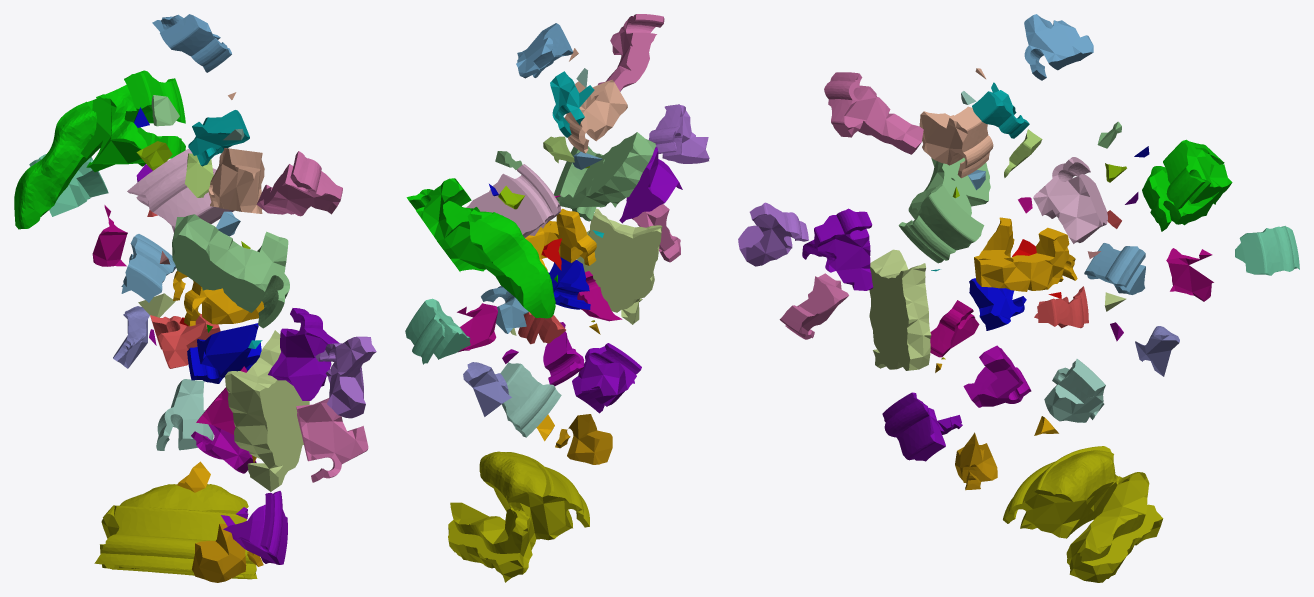
The model's file is fractured_52_48pcs_transformed.glb.
3 renders of one model, left to right at view 1: azimuth 30°, elevation 25°; view 2: azimuth 150°, elevation 25°; view 3: azimuth 270°, elevation 25°, orthographic. The views are drawn at different scales.
Visible parts, largest first — view 1: piece_9.obj, piece_13.obj, piece_3.obj, piece_5.obj, piece_18.obj, piece_7.obj, piece_24.obj, piece_22.obj, piece_27.obj, piece_11.obj, piece_8.obj, piece_20.obj (+17 smaller); view 2: piece_13.obj, piece_9.obj, piece_5.obj, piece_3.obj, piece_7.obj, piece_20.obj, piece_4.obj, piece_25.obj, piece_24.obj, piece_8.obj, piece_27.obj, piece_0.obj (+13 smaller); view 3: piece_13.obj, piece_5.obj, piece_3.obj, piece_9.obj, piece_0.obj, piece_24.obj, piece_7.obj, piece_18.obj, piece_8.obj, piece_20.obj, piece_27.obj, piece_26.obj (+12 smaller).
Part boxes in pixels (box(x1,y1,x2,y2)): piece_9.obj: box(14, 70, 185, 229); piece_13.obj: box(94, 484, 257, 579); piece_3.obj: box(172, 214, 289, 328); piece_5.obj: box(225, 330, 309, 491); piece_18.obj: box(268, 308, 339, 400); piece_7.obj: box(127, 148, 234, 232); piece_24.obj: box(256, 151, 342, 216); piece_22.obj: box(296, 398, 368, 482); piece_27.obj: box(315, 336, 376, 418); piece_11.obj: box(187, 323, 261, 383); piece_8.obj: box(208, 148, 264, 213); piece_20.obj: box(221, 491, 287, 564); piece_13.obj: box(448, 451, 589, 582); piece_9.obj: box(406, 178, 555, 318); piece_5.obj: box(577, 208, 662, 324); piece_3.obj: box(554, 132, 655, 221); piece_7.obj: box(466, 164, 560, 237); piece_20.obj: box(572, 343, 641, 413); piece_4.obj: box(500, 362, 561, 437); piece_25.obj: box(405, 298, 470, 364); piece_24.obj: box(598, 14, 664, 91); piece_8.obj: box(564, 79, 627, 153); piece_27.obj: box(648, 104, 709, 163); piece_0.obj: box(525, 208, 596, 270); piece_13.obj: box(1003, 446, 1163, 582); piece_5.obj: box(869, 249, 931, 370); piece_3.obj: box(898, 157, 990, 263); piece_9.obj: box(1142, 139, 1232, 231); piece_0.obj: box(974, 217, 1077, 291); piece_24.obj: box(824, 72, 923, 154); piece_7.obj: box(1033, 157, 1107, 243); piece_18.obj: box(802, 208, 873, 290); piece_8.obj: box(919, 106, 993, 178); piece_20.obj: box(882, 392, 961, 461); piece_27.obj: box(738, 202, 808, 266); piece_26.obj: box(1024, 14, 1093, 80).
Size of the model in its own units: 0.6567 by 2.12 by 2.02.
